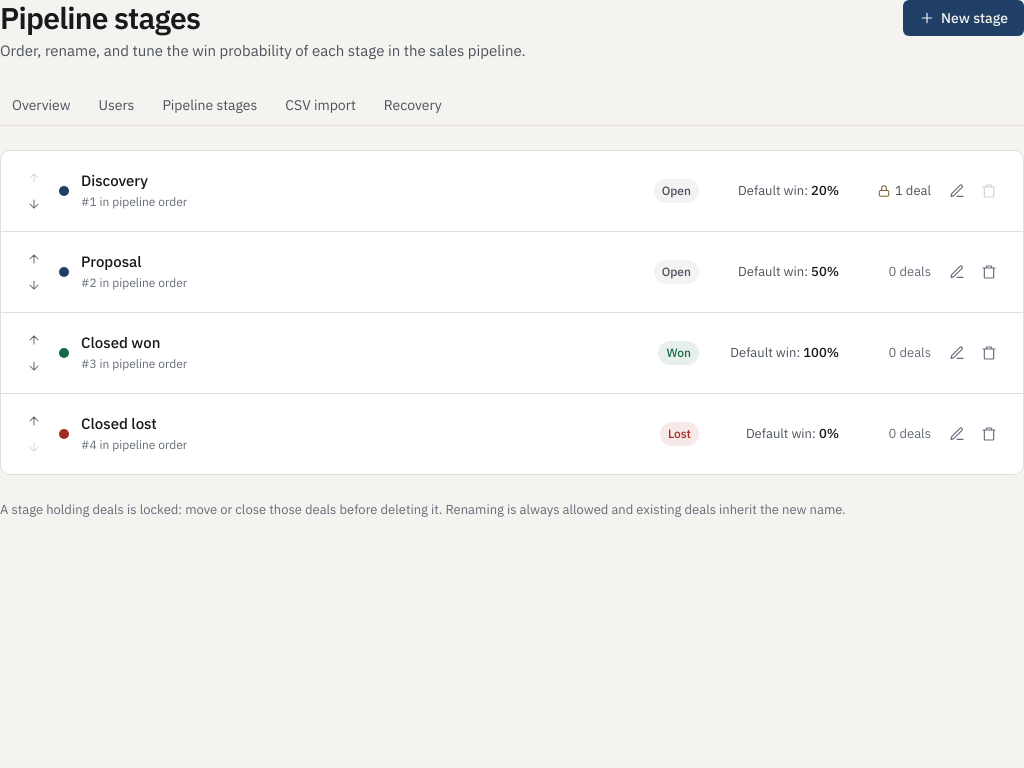
Scenario: AdminStagesPage › prefills and saves the edit form
Expected: the text "Discovery" is shown, [81,171,148,190]
Click the button named "Edit Discovery". click: (957, 190)
box: [943,176,971,204]
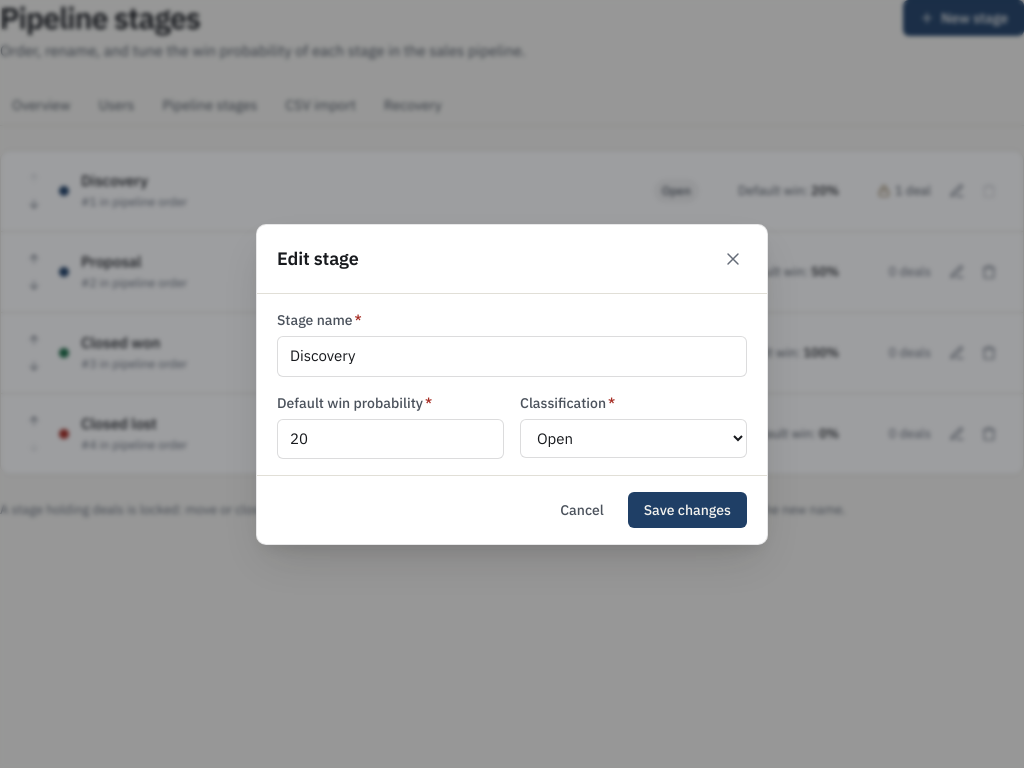
Now the field labelled "Stage name*" holds "Discovery"
Now the number field labelled "Default win probability*" holds "20", box [277,418,504,458]
Now the dropdown labelled "Classification*" shows "Open", box [520,418,747,457]
Replace the text in the field labelled "Stage name*" with "Discovery call". click: (512, 356)
box: [277,336,747,376]
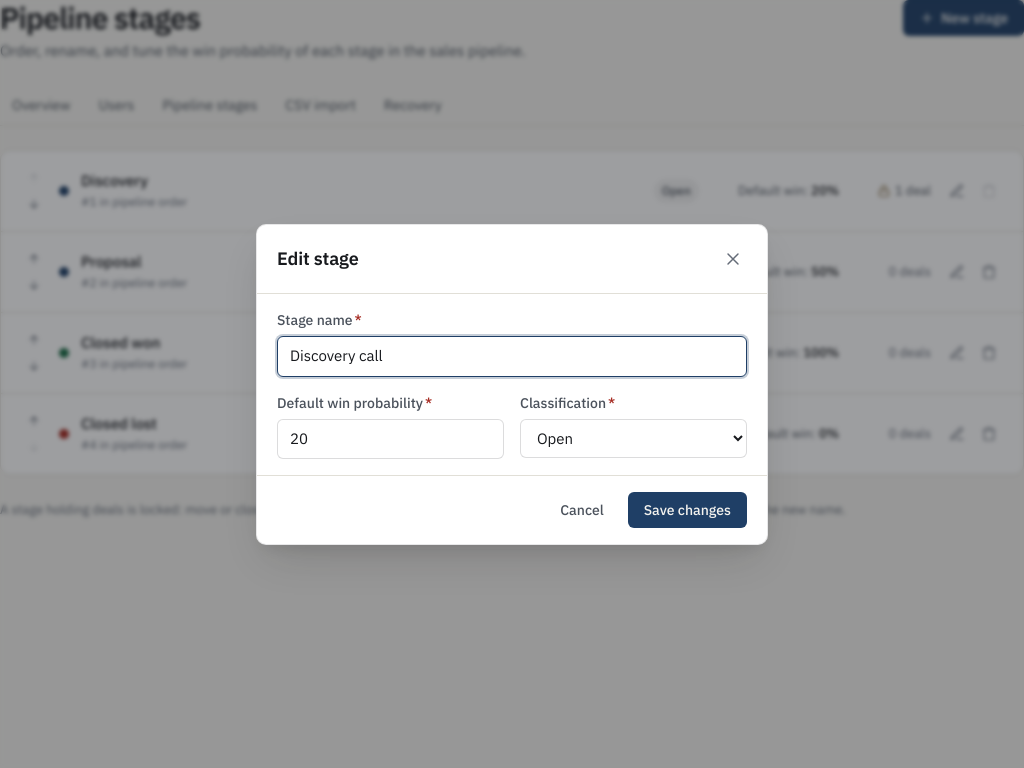
Replace the text in the number field labelled "Default win probability*" with "35". click: (390, 438)
box: [277,418,504,458]
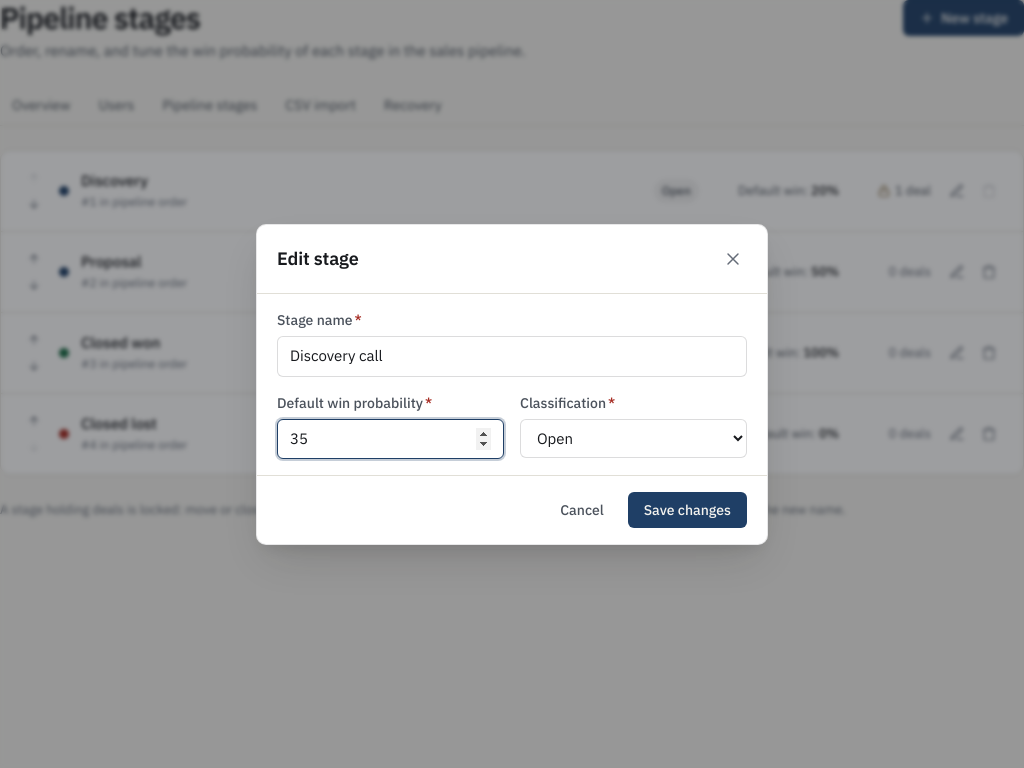
Click the button "Save changes". click: (687, 510)
box: [628,492,747,528]
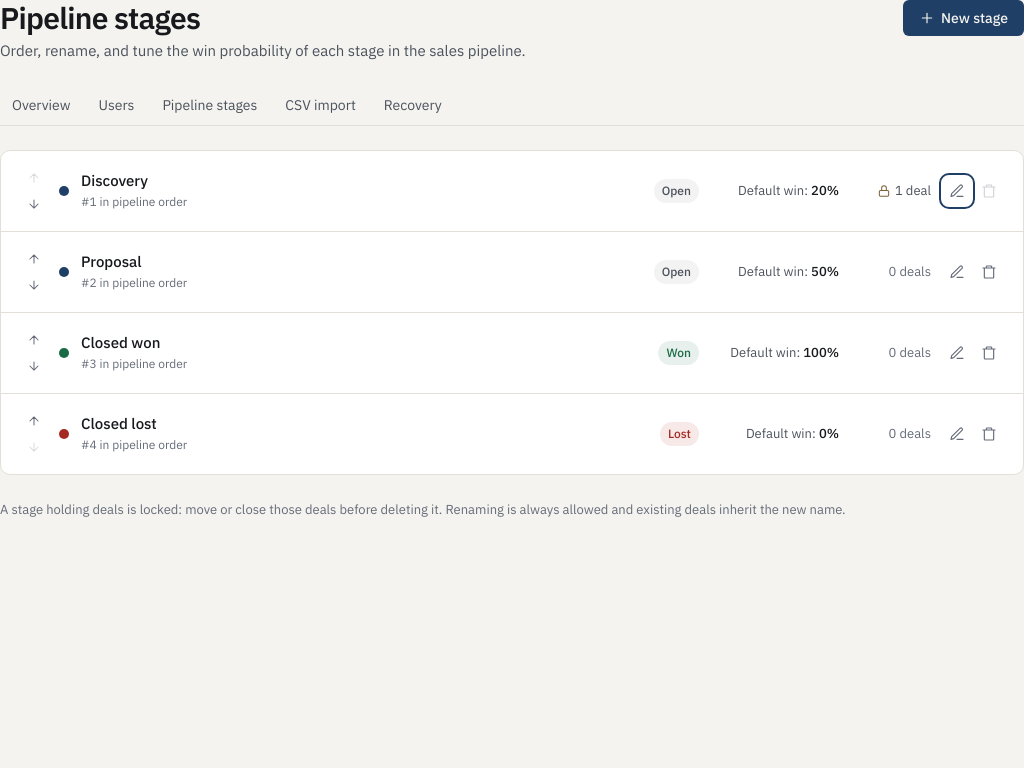
Now the heading "Edit stage" is gone
